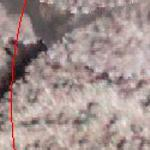alive: (1, 4, 145, 147)
